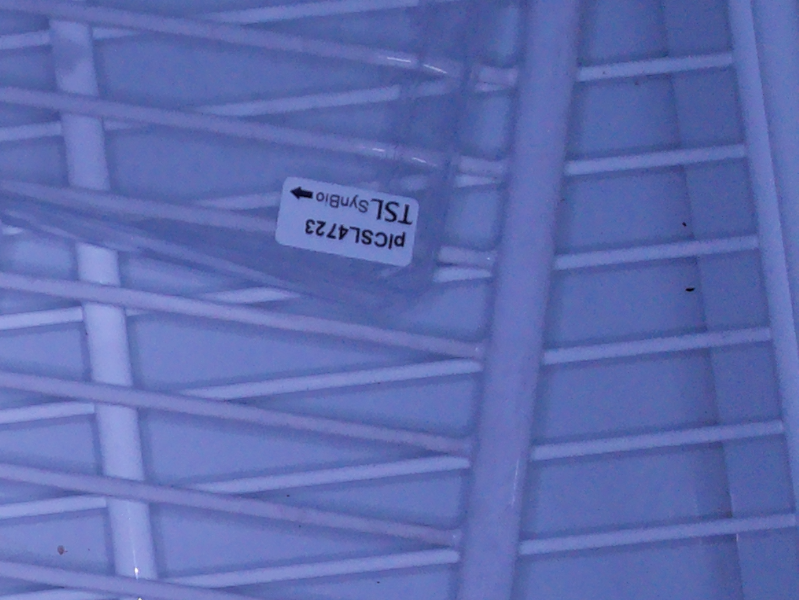plate: (1, 1, 489, 312)
